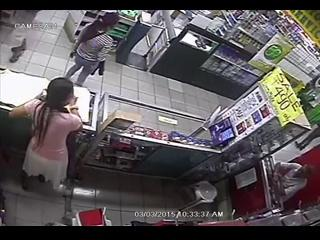Normal: (8, 77, 84, 195), (64, 24, 119, 88)
